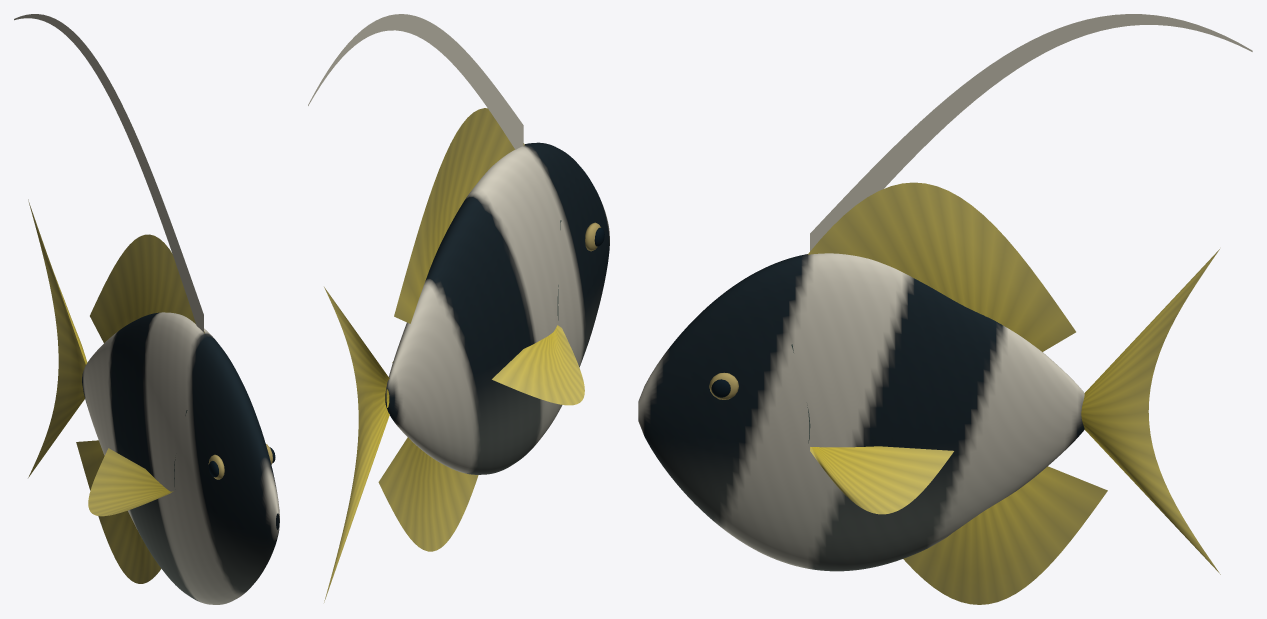
The model's file is bannerfish.glb.
3 renders of one model, left to right at view 1: azimuth 30°, elevation 25°; view 2: azimuth 150°, elevation 25°; view 3: azimuth 270°, elevation 25°, orthographic. The views are drawn at different scales.
Parts seen in each view (by area): view 1: Ocean Slice bannerfish; view 2: Ocean Slice bannerfish; view 3: Ocean Slice bannerfish.
Part boxes in pixels (<box>): Ocean Slice bannerfish: <box>14,14,279,604</box>; Ocean Slice bannerfish: <box>308,14,609,602</box>; Ocean Slice bannerfish: <box>638,14,1252,604</box>.
Size of the model in its own units: 0.48 by 1.44 by 1.36.
